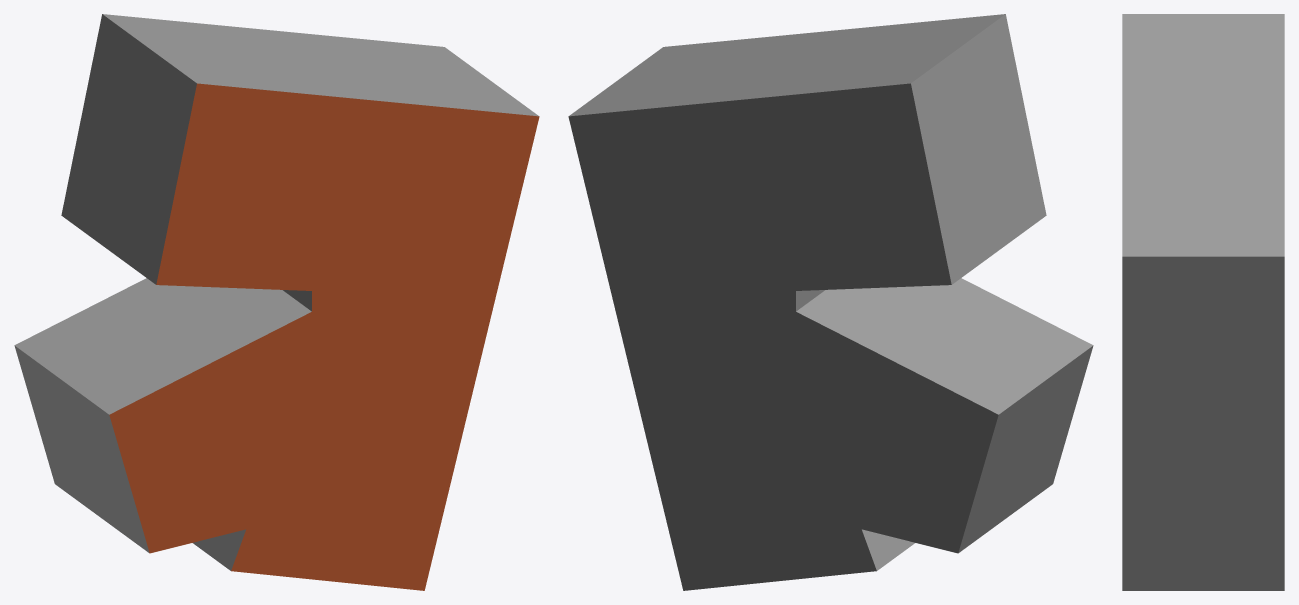
The model's file is construction_1395_assumed_A_Casa_h6m.obj.
3 views of the same model, side by side, from view 1: azimuth 30°, elevation 25°; view 2: azimuth 150°, elevation 25°; view 3: azimuth 270°, elevation 25° (orthographic). The views are drawn at different scales.
Visible parts, largest first — view 1: construction_1395_assumed_A_Casa; view 2: construction_1395_assumed_A_Casa; view 3: construction_1395_assumed_A_Casa.
Part boxes in pixels (bbox=[...]): construction_1395_assumed_A_Casa: bbox=[14, 14, 539, 590]; construction_1395_assumed_A_Casa: bbox=[568, 14, 1093, 590]; construction_1395_assumed_A_Casa: bbox=[1122, 14, 1284, 590].
Bounding box in the file's own units: 15.71 × 19.64 × 6.
